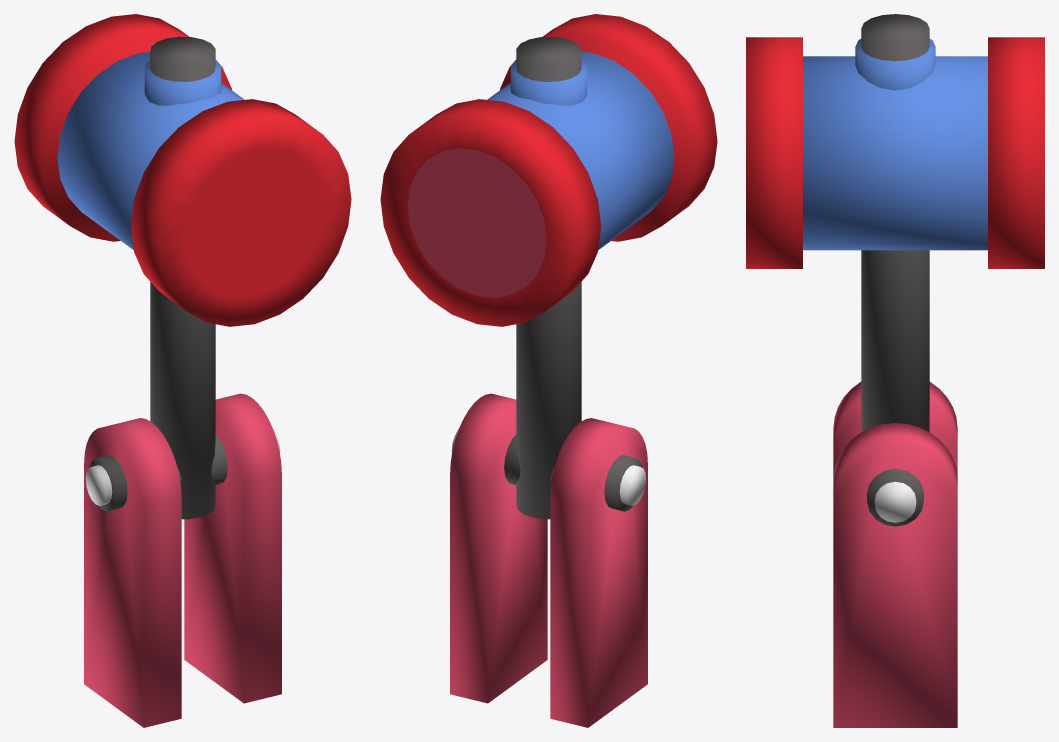
The model's file is Obstacle 8 V1.fbx.
3 views of the same model, side by side, from view 1: azimuth 30°, elevation 25°; view 2: azimuth 150°, elevation 25°; view 3: azimuth 270°, elevation 25° (orthographic). The views are drawn at different scales.
Parts seen in each view (by area): view 1: O8 Part 2, O8 Part 1; view 2: O8 Part 2, O8 Part 1; view 3: O8 Part 2, O8 Part 1.
Part boxes in pixels (x1=…): O8 Part 2: x1=14, y1=14, x2=351, y2=519; O8 Part 1: x1=84, y1=393, x2=281, y2=727; O8 Part 2: x1=380, y1=14, x2=717, y2=519; O8 Part 1: x1=450, y1=393, x2=647, y2=727; O8 Part 2: x1=746, y1=14, x2=1044, y2=526; O8 Part 1: x1=833, y1=382, x2=957, y2=727.
Bounding box in the file's own units: 71.86 × 227 × 92.36.
Materials: 1 (1 with a texture image).
